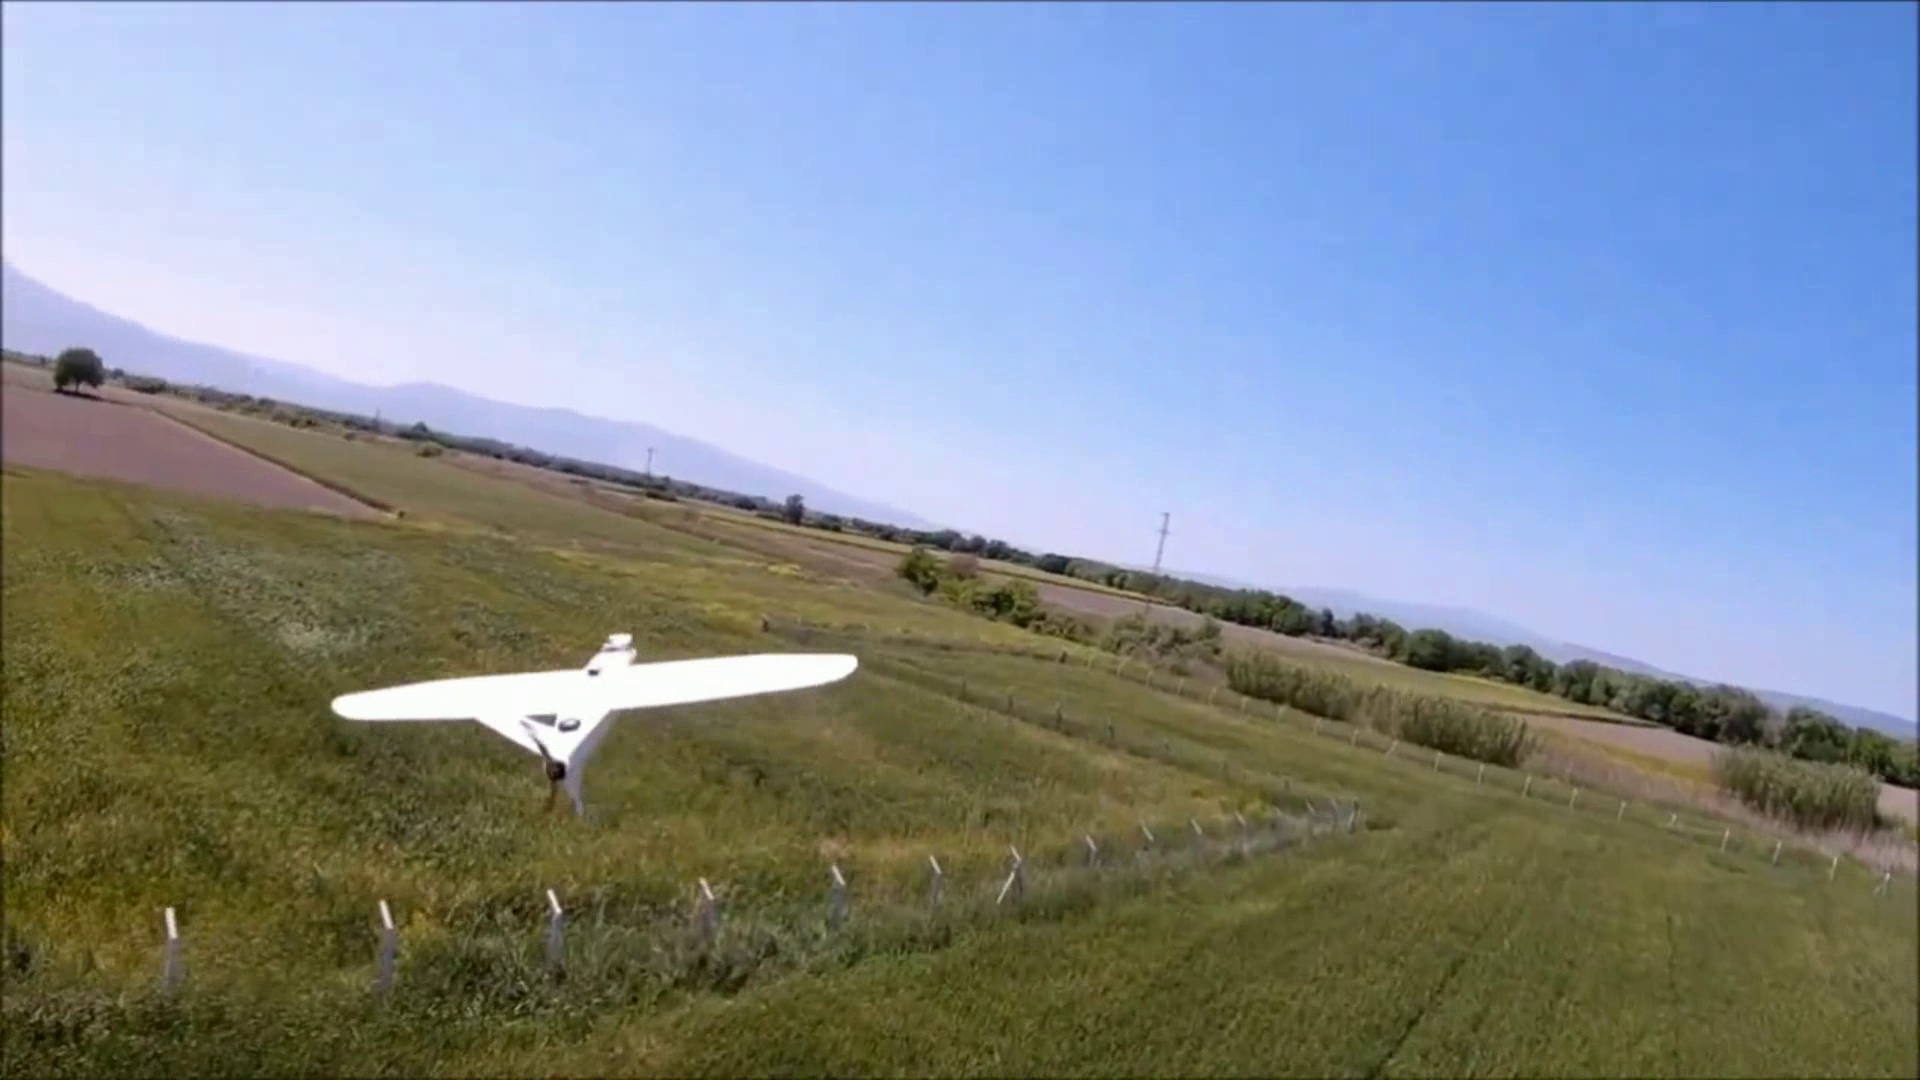airplane: (328, 633, 862, 826)
